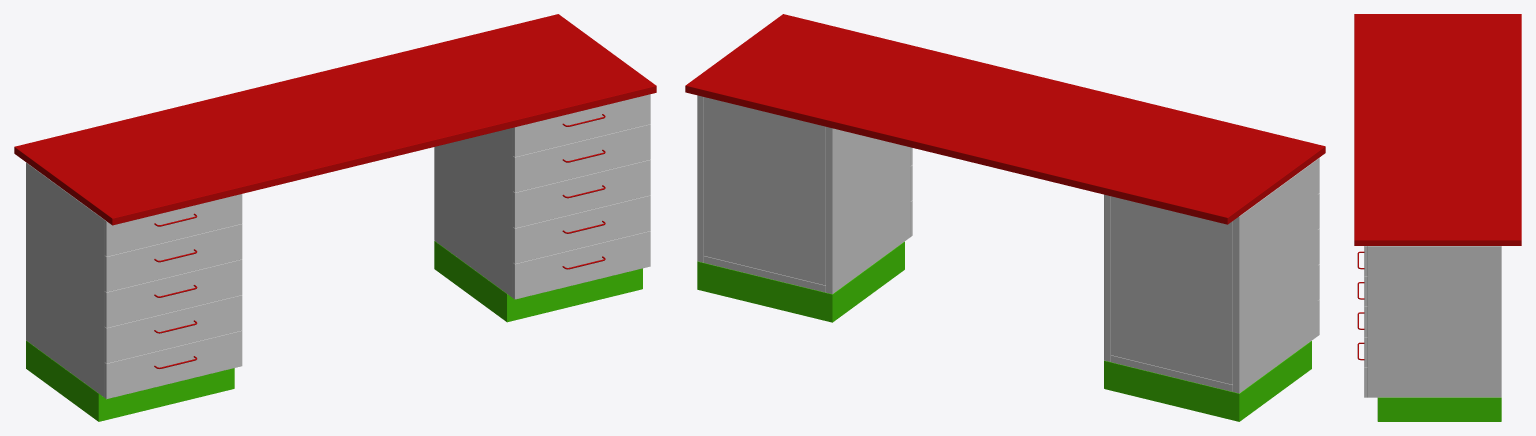
The model's file is Bench03b.fbx.
3 renders of one model, left to right at view 1: azimuth 30°, elevation 25°; view 2: azimuth 150°, elevation 25°; view 3: azimuth 270°, elevation 25°, orthographic. The views are drawn at different scales.
Visible parts, largest first — view 1: Bench03b, Drawer03, Drawer02, Drawer04, Drawer05, Drawer08, Drawer09, Drawer10, Drawer07, Drawer01, Drawer06; view 2: Bench03b; view 3: Bench03b, Drawer08, Drawer09, Drawer07, Drawer10.
Part boxes in pixels (x1,y1,x2,y2): Bench03b: (14,14,656,421); Drawer03: (104,259,242,327); Drawer02: (104,224,242,292); Drawer04: (104,295,242,363); Drawer05: (104,330,242,399); Drawer08: (513,159,650,228); Drawer09: (513,195,650,263); Drawer10: (513,231,650,299); Drawer07: (513,124,650,192); Drawer01: (104,194,242,256); Drawer06: (513,94,650,156); Bench03b: (685,14,1325,421); Bench03b: (1354,14,1521,421); Drawer08: (1357,282,1367,336); Drawer09: (1357,312,1367,367); Drawer07: (1357,251,1367,306); Drawer10: (1357,342,1367,397).
Size of the model in its own units: 200 by 62.5 by 75.
